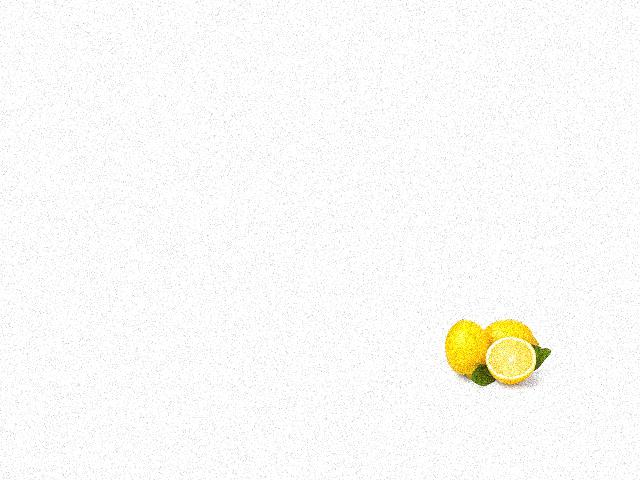lemon: (486, 316, 542, 351)
